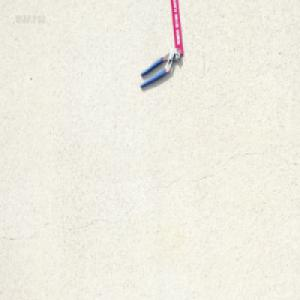Label: (170, 0, 184, 55)
Pliers: (139, 45, 181, 88)
